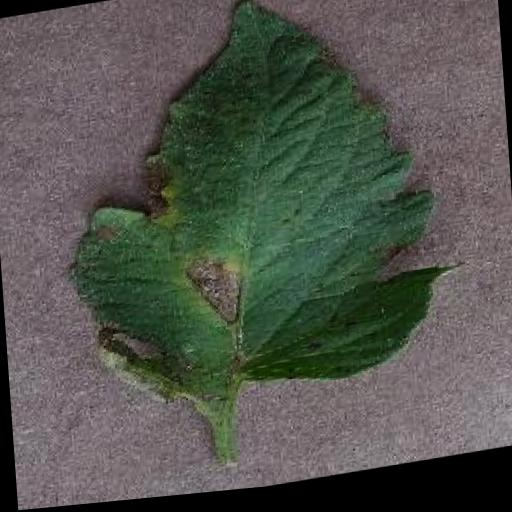Early Blight: (59, 0, 470, 430)
